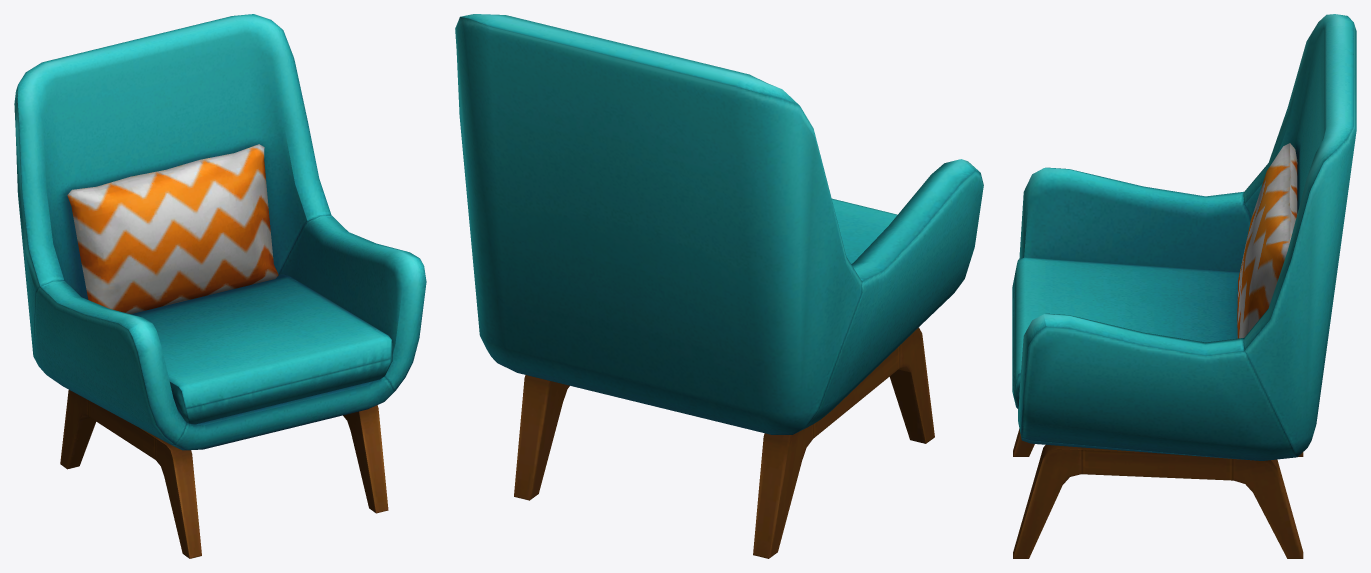
The model's file is LovelyArmchair.fbx.
3 views of the same model, side by side, from view 1: azimuth 30°, elevation 25°; view 2: azimuth 150°, elevation 25°; view 3: azimuth 270°, elevation 25° (orthographic). The views are drawn at different scales.
Visible parts, largest first — view 1: TinyLiving_LovelyArmchair; view 2: TinyLiving_LovelyArmchair; view 3: TinyLiving_LovelyArmchair.
Part boxes in pixels (box(x1,y1,x2,y2)): TinyLiving_LovelyArmchair: box(14, 14, 426, 558); TinyLiving_LovelyArmchair: box(455, 14, 983, 558); TinyLiving_LovelyArmchair: box(1012, 14, 1356, 558).
Bounding box in the file's own units: 82.16 × 103 × 73.93.
